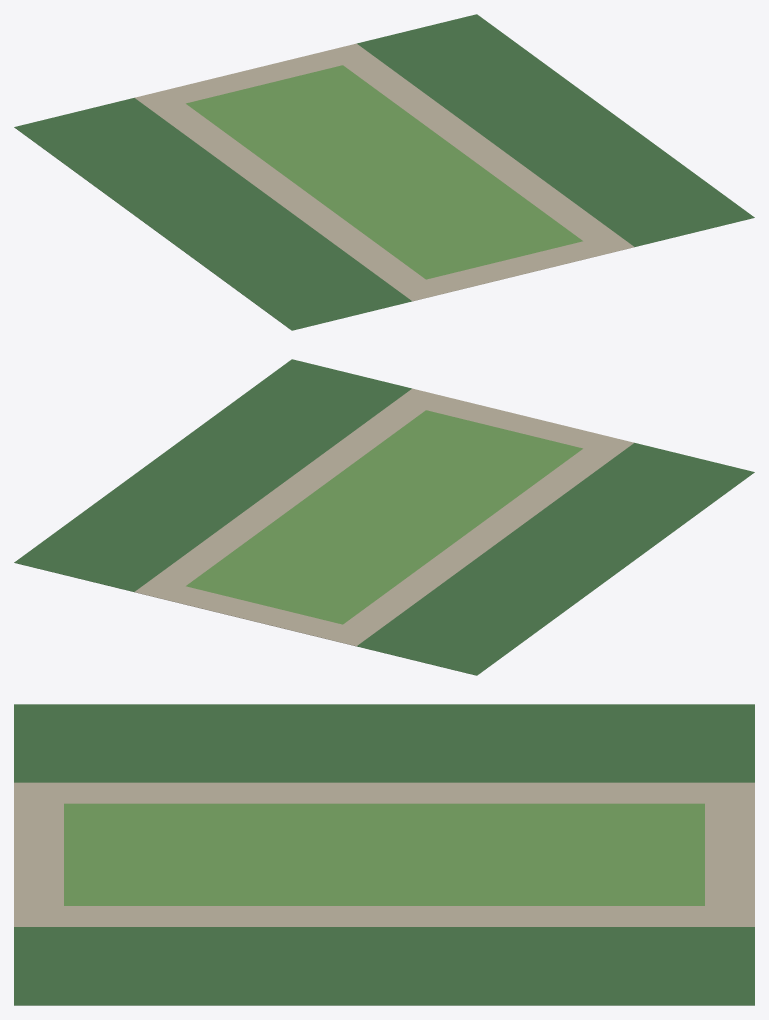
The model's file is mall_core_panel_blockout.gltf.
The picture shows the model from 3 angles, top to bottom: view 1: azimuth 30°, elevation 25°; view 2: azimuth 150°, elevation 25°; view 3: azimuth 270°, elevation 25°; orthographic projection. The views are drawn at different scales.
Parts seen in each view (by area): view 1: Lawn, Grove_Envelope_NegX, Grove_Envelope_PosX, Path_Longitudinal_NegX, Path_Longitudinal_PosX, Path_End_PosZ, Path_End_NegZ; view 2: Lawn, Grove_Envelope_NegX, Grove_Envelope_PosX, Path_Longitudinal_NegX, Path_Longitudinal_PosX, Path_End_NegZ, Path_End_PosZ; view 3: Lawn, Grove_Envelope_PosX, Grove_Envelope_NegX, Path_Longitudinal_NegX, Path_Longitudinal_PosX, Path_End_PosZ, Path_End_NegZ.
Part boxes in pixels (x1,y1,x2,y2): Lawn: [186, 65, 582, 279]; Grove_Envelope_NegX: [14, 98, 412, 330]; Grove_Envelope_PosX: [357, 14, 754, 246]; Path_Longitudinal_NegX: [153, 103, 425, 287]; Path_Longitudinal_PosX: [343, 57, 615, 241]; Path_End_PosZ: [394, 233, 634, 301]; Path_End_NegZ: [134, 43, 374, 111]; Lawn: [186, 410, 582, 624]; Grove_Envelope_NegX: [356, 443, 754, 675]; Grove_Envelope_PosX: [14, 359, 411, 591]; Path_Longitudinal_NegX: [343, 448, 615, 632]; Path_Longitudinal_PosX: [153, 402, 425, 586]; Path_End_NegZ: [134, 578, 374, 646]; Path_End_PosZ: [394, 388, 634, 456]; Lawn: [64, 803, 704, 905]; Grove_Envelope_PosX: [14, 927, 754, 1005]; Grove_Envelope_NegX: [14, 704, 754, 782]; Path_Longitudinal_NegX: [64, 782, 704, 803]; Path_Longitudinal_PosX: [64, 906, 704, 926]; Path_End_PosZ: [14, 782, 63, 926]; Path_End_NegZ: [705, 782, 754, 926].
Bounding box in the file's own units: 152 × 0.1 × 158.
